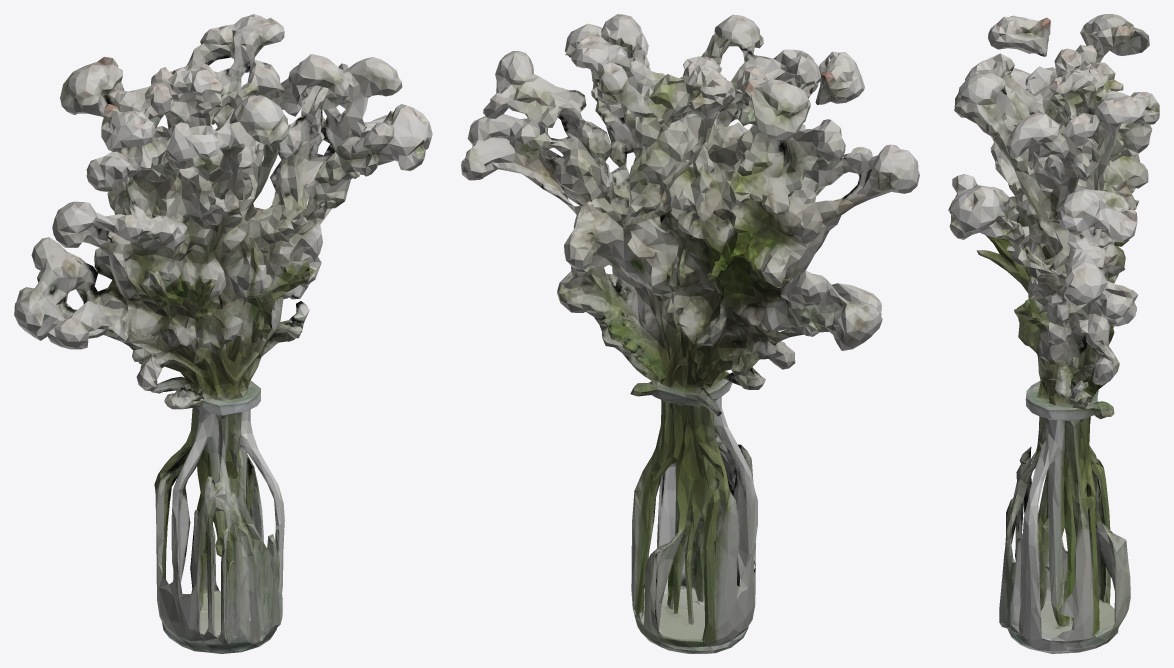
Rendered from ast_12910011860f.glb.
3 renders of one model, left to right at view 1: azimuth 30°, elevation 25°; view 2: azimuth 150°, elevation 25°; view 3: azimuth 270°, elevation 25°, orthographic. The views are drawn at different scales.
Visible parts, largest first — view 1: geometry_0; view 2: geometry_0; view 3: geometry_0.
Part boxes in pixels (left/top/right/bottom): geometry_0: left=14, top=14, right=432, bottom=653; geometry_0: left=461, top=14, right=919, bottom=653; geometry_0: left=948, top=14, right=1159, bottom=653.
Size of the model in its own units: 0.7148 by 0.9991 by 0.3343.
Materials: 1 (1 with a texture image).
